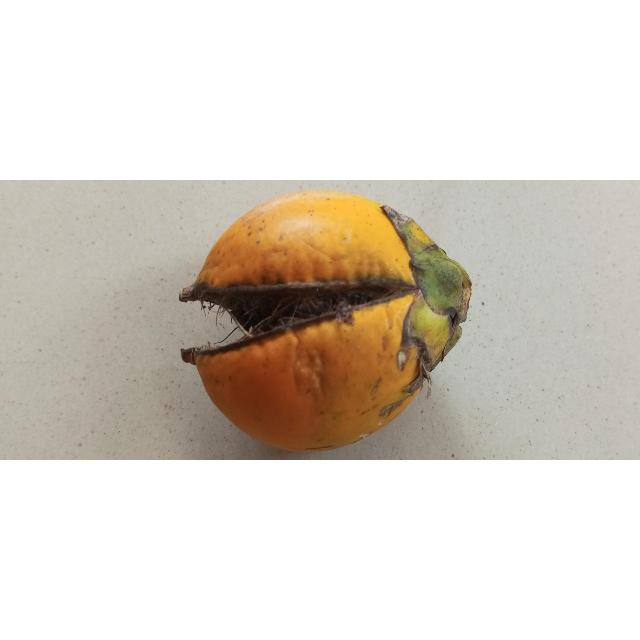damaged: (179, 190, 473, 453)
